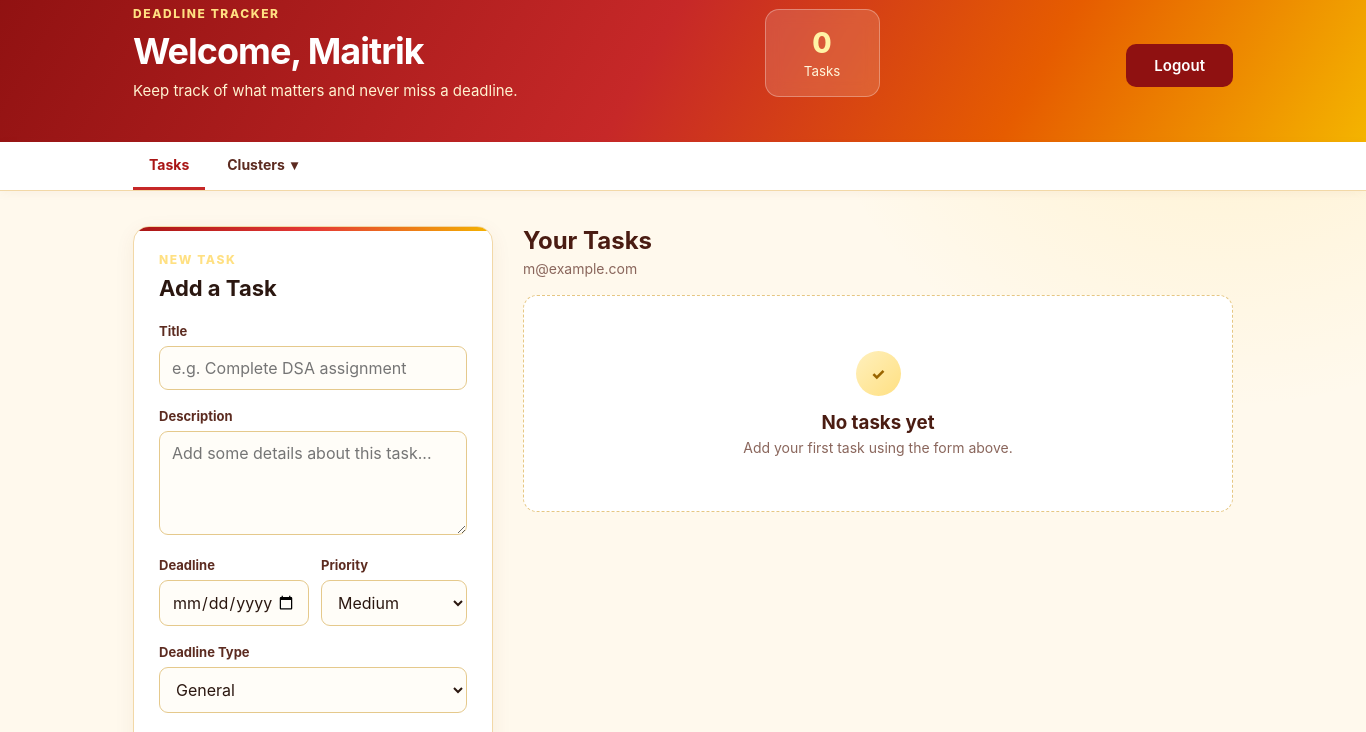
Test: App (V1 behaviour and cluster navigation) › V1 task creation still posts to /api/tasks and updates the list
The image size is (1366, 732).
expect the heading "Welcome, Maitrik" is shown: met, box [133,29,424,73]
Type "Brand new task" into the field with placeholder "e.g. Complete DSA assignment". click: [313, 368]
box: [159,346,467,390]
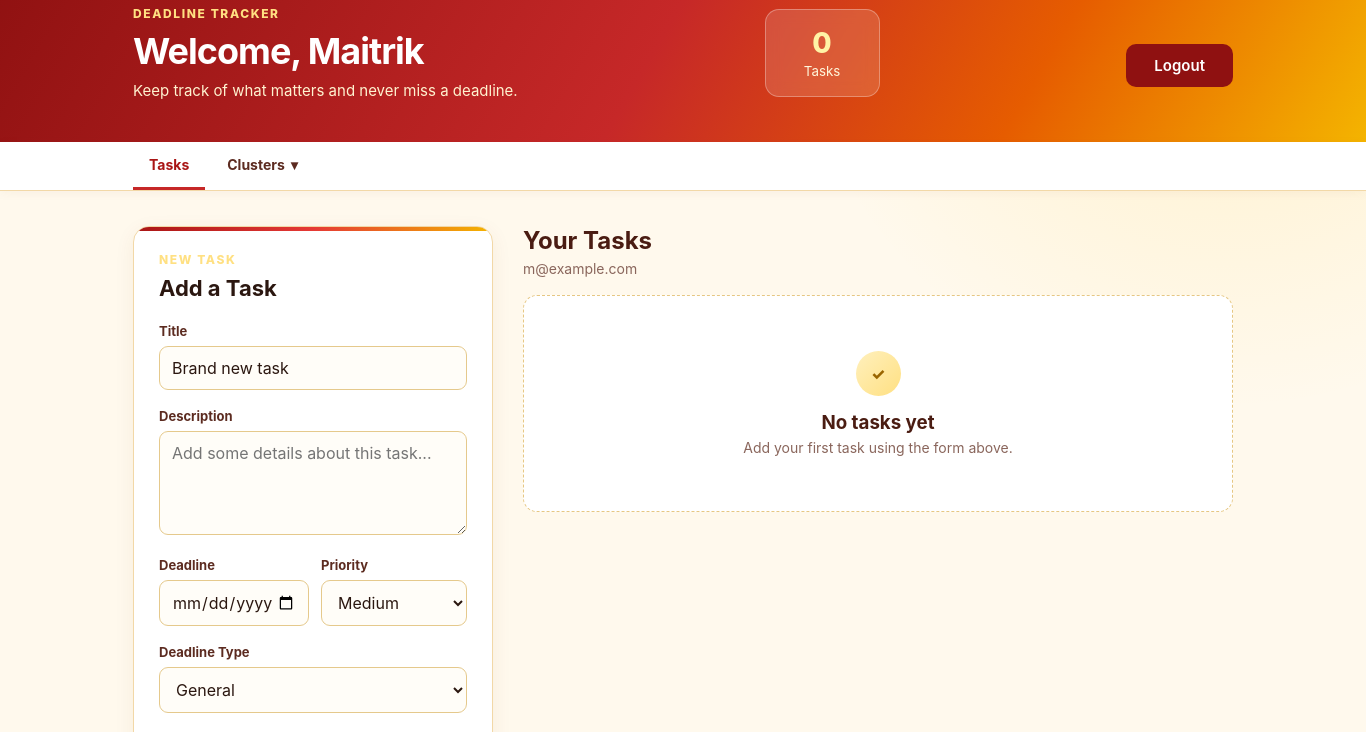
Type "2026-12-01" into the date field named "deadline". click: [234, 603]
box: [159,580,309,626]
(page scrolled)
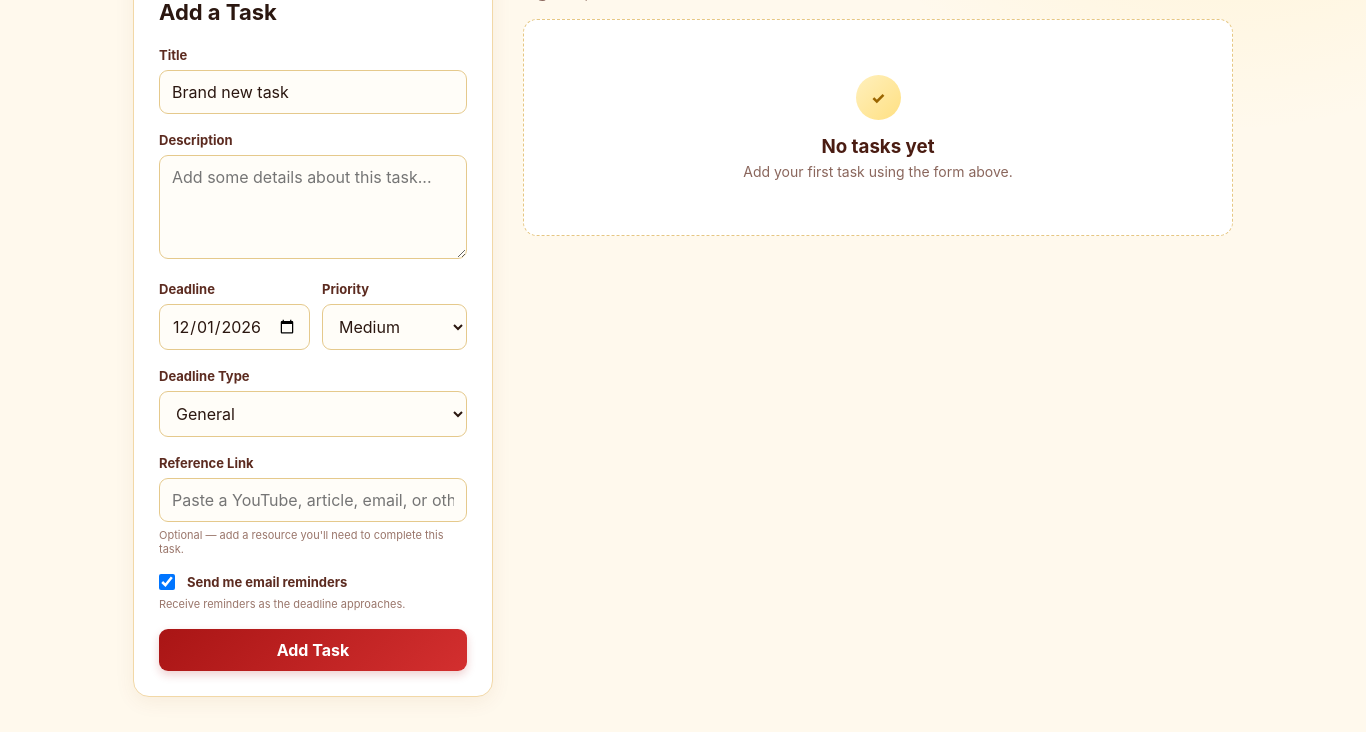
Click the button "Add Task". click: [313, 650]
box: [159,629,467,671]
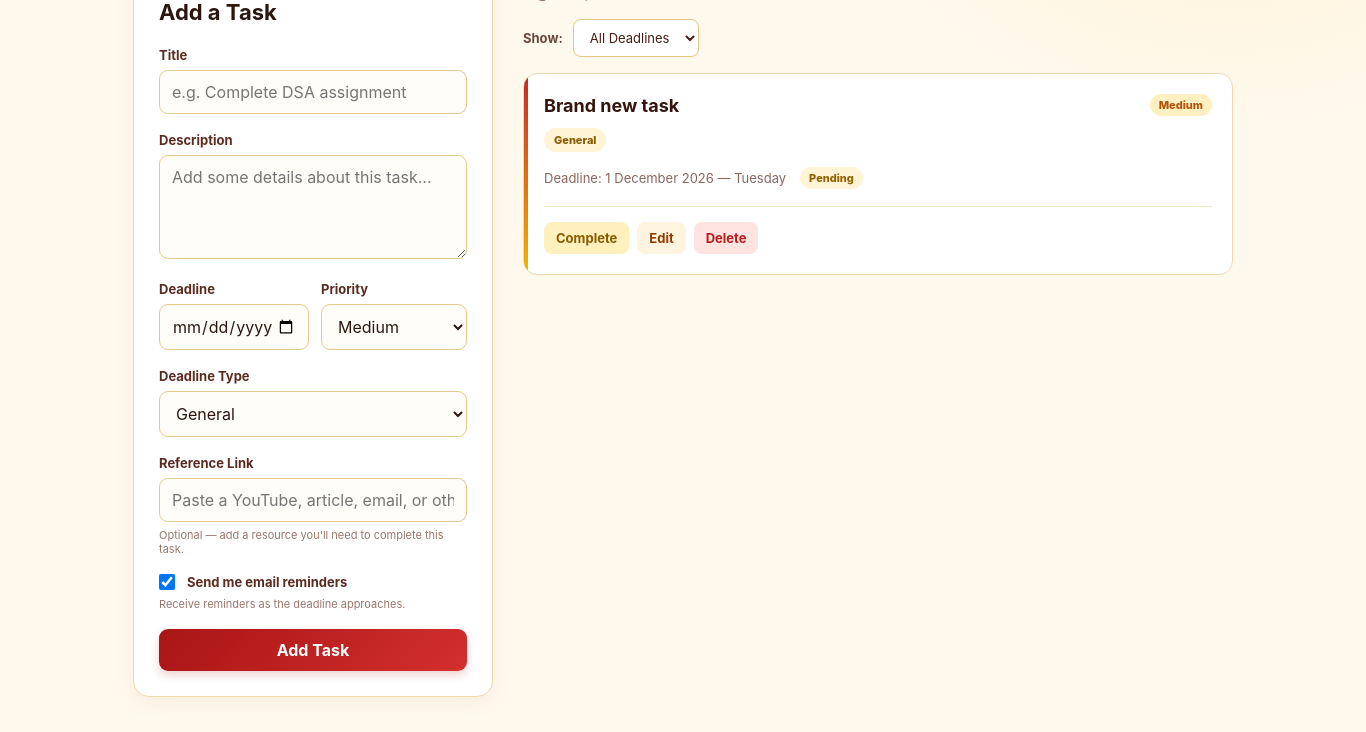
expect the heading "Brand new task" is shown: met, box [544,94,679,116]
